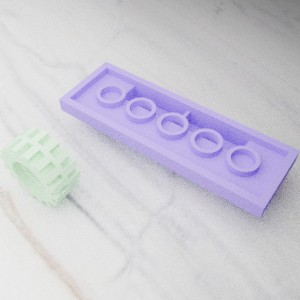lego: (58, 61, 299, 218), (0, 126, 80, 206)
